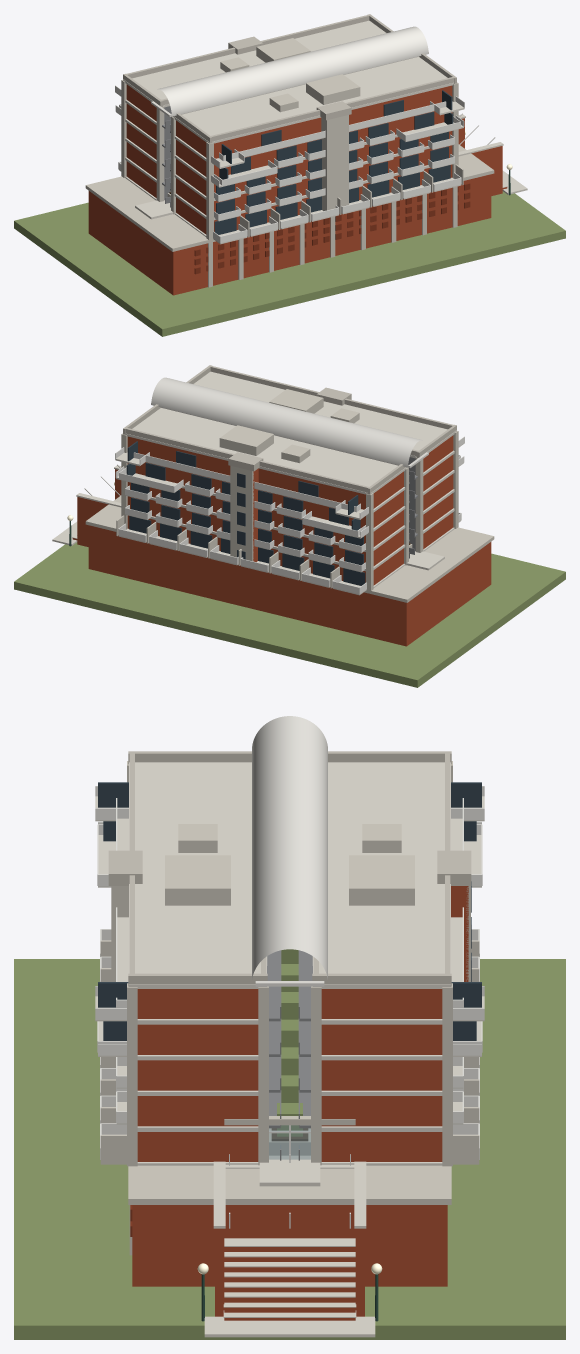
The model's file is residencias-hatillo-hill.glb.
3 views of the same model, one above another, from view 1: azimuth 30°, elevation 25°; view 2: azimuth 150°, elevation 25°; view 3: azimuth 270°, elevation 25° (orthographic). The views are drawn at different scales.
Parts seen in each view (by area): view 1: terrain, podium, blockA_mass, passageCurvedRoof, blockA_band5, podiumCap, blockB_band5, blockB_mass, stairCore, roofParL0, roofParR1, roofBox0 (+10 smaller); view 2: terrain, podium, blockB_mass, passageCurvedRoof, blockB_band5, podiumCap, blockA_band5, blockA_mass, elevatorFace, roofParR1, roofParL0, roofBox1 (+10 smaller); view 3: terrain, blockA_band5, blockB_band5, blockA_mass, blockB_mass, passageCurvedRoof, podium, podiumCap, roofBox0, roofBox1, entryPlatform, blockA_col2 (+43 smaller).
Part boxes in pixels (x1,y1,x2,y2): terrain: (14, 191, 565, 336); podium: (88, 174, 491, 295); blockA_mass: (176, 85, 452, 234); passageCurvedRoof: (157, 26, 428, 116); blockA_band5: (172, 57, 454, 143); podiumCap: (85, 144, 494, 251); blockB_band5: (123, 20, 386, 107); blockB_mass: (126, 84, 156, 197); stairCore: (321, 115, 348, 210); roofParL0: (210, 76, 454, 141); roofParR1: (125, 15, 369, 78); roofBox0: (306, 74, 360, 104); terrain: (14, 542, 565, 687); podium: (88, 525, 491, 646); blockB_mass: (127, 436, 403, 585); passageCurvedRoof: (151, 377, 422, 467); blockB_band5: (125, 408, 407, 494); podiumCap: (85, 495, 494, 602); blockA_band5: (193, 371, 456, 458); blockA_mass: (423, 435, 453, 548); elevatorFace: (230, 466, 253, 561); roofParR1: (125, 427, 369, 492); roofParL0: (210, 366, 454, 429); roofBox1: (219, 425, 273, 455); terrain: (14, 959, 565, 1339); blockA_band5: (129, 762, 266, 988); blockB_band5: (313, 762, 450, 988); blockA_mass: (137, 989, 258, 1161); blockB_mass: (321, 989, 442, 1161); passageCurvedRoof: (252, 716, 327, 979); podium: (132, 1205, 447, 1286); podiumCap: (128, 1165, 451, 1204); roofBox0: (165, 855, 230, 905); roofBox1: (349, 855, 414, 905); entryPlatform: (204, 1316, 375, 1337); blockA_col2: (127, 983, 137, 1166).
Bounding box in the file's own units: 68.1 × 27.2 × 42.
